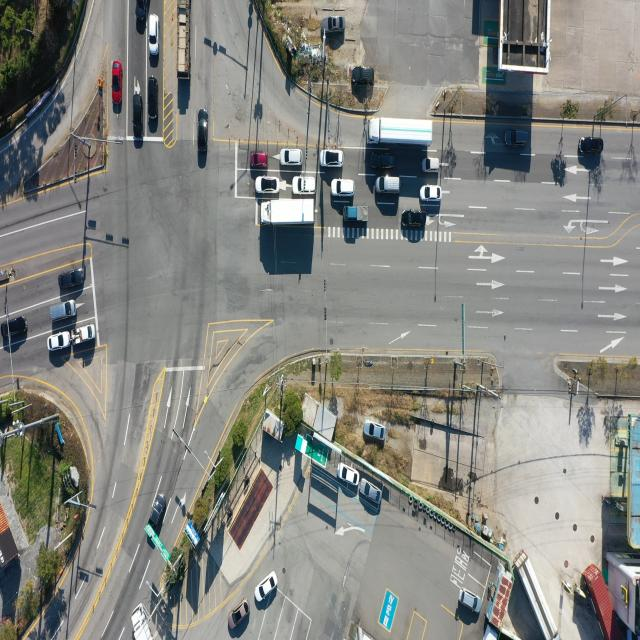car: (146, 492, 169, 537), (257, 572, 279, 602), (2, 319, 28, 343), (458, 588, 482, 614), (196, 108, 208, 160), (230, 600, 250, 630), (321, 14, 346, 37), (359, 480, 382, 505), (60, 268, 86, 290), (50, 299, 76, 320), (134, 88, 145, 137), (338, 463, 360, 485), (580, 137, 604, 156), (256, 177, 281, 195), (332, 179, 357, 197), (376, 176, 401, 194), (403, 210, 428, 228), (112, 62, 122, 107), (363, 420, 385, 440), (148, 79, 158, 123), (506, 130, 529, 149), (136, 0, 150, 31), (292, 180, 316, 198), (324, 149, 346, 168), (47, 333, 69, 352), (372, 152, 395, 170), (148, 15, 158, 55), (352, 66, 374, 84), (281, 148, 303, 165), (420, 184, 439, 202), (250, 151, 268, 167), (422, 158, 438, 175)
large_truck: (176, 0, 192, 82)
medium_truck: (520, 551, 562, 638), (369, 118, 435, 147), (258, 198, 316, 228), (132, 602, 154, 640)
small_truck: (343, 206, 368, 224), (73, 326, 95, 346)
